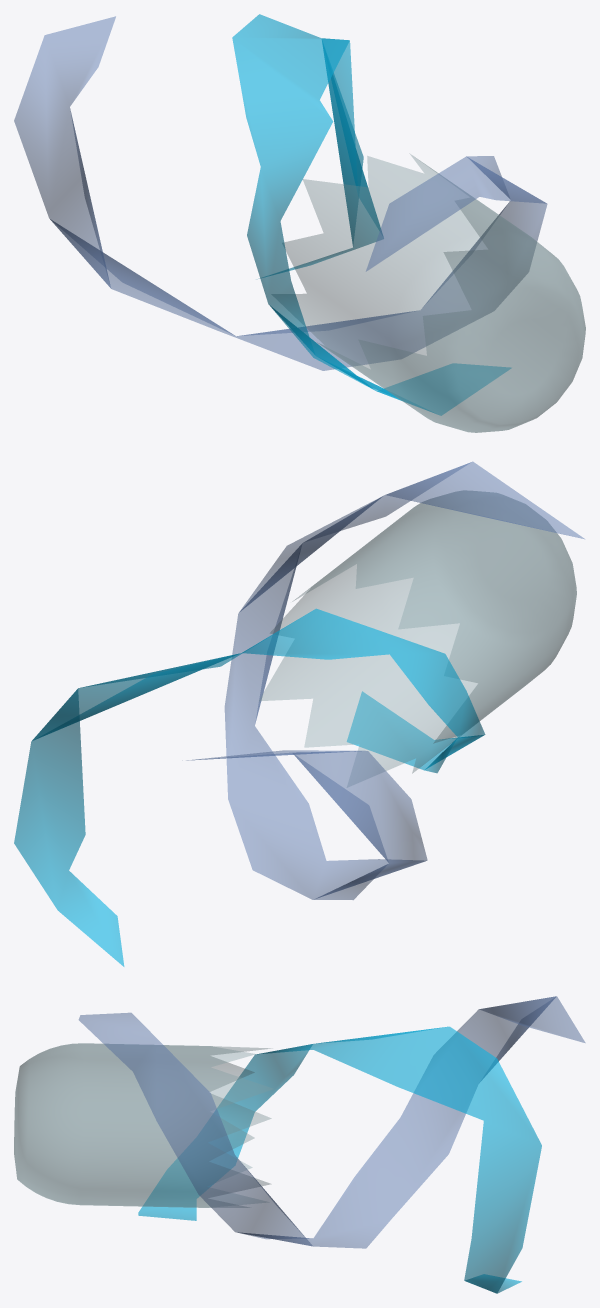
Rendered from Wind Punch.fbx.
3 views of the same model, one above another, from view 1: azimuth 30°, elevation 25°; view 2: azimuth 150°, elevation 25°; view 3: azimuth 270°, elevation 25° (orthographic). The views are drawn at different scales.
Parts seen in each view (by area): view 1: sweep1, pasted__pCylinder5; view 2: sweep1, pasted__pCylinder5; view 3: sweep1, pasted__pCylinder5.
Part boxes in pixels (box(x1,y1,x2,y2)): sweep1: box(14, 14, 547, 415); pasted__pCylinder5: box(284, 154, 585, 432); sweep1: box(14, 461, 584, 966); pasted__pCylinder5: box(259, 490, 576, 786); sweep1: box(78, 996, 585, 1293); pasted__pCylinder5: box(14, 1043, 272, 1207).
Bounding box in the file's own units: 5.86 × 4.89 × 10.62.
